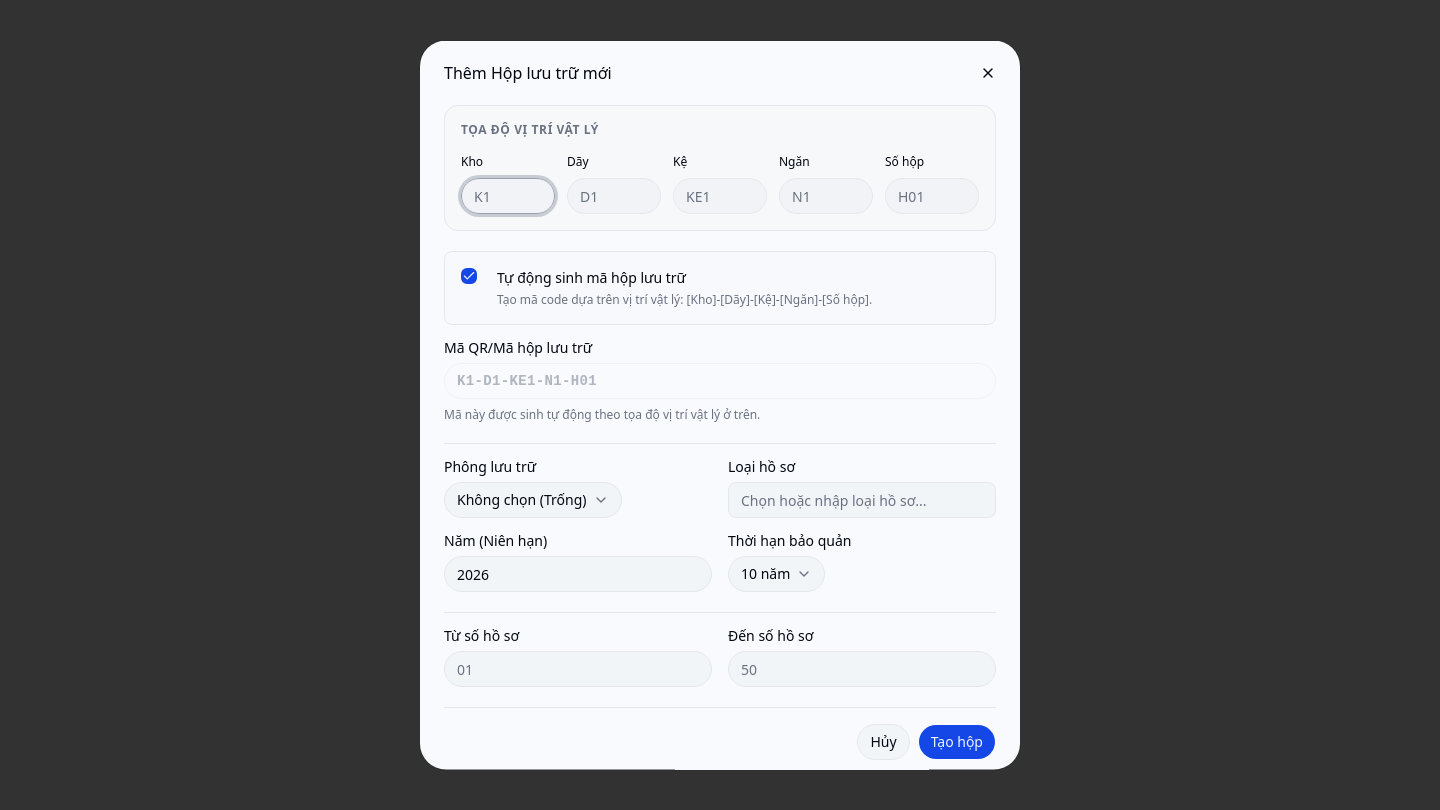
Scenario: StorageBoxDialog › renders AutocompleteInput for caseType field with merged suggestions
The width and height of the screenshot is (1440, 810).
Note: Focus input to open suggestions
Focus the field with placeholder "Chọn hoặc nhập loại hồ sơ...": (862, 500) [728,482,996,518]
(page scrolled)
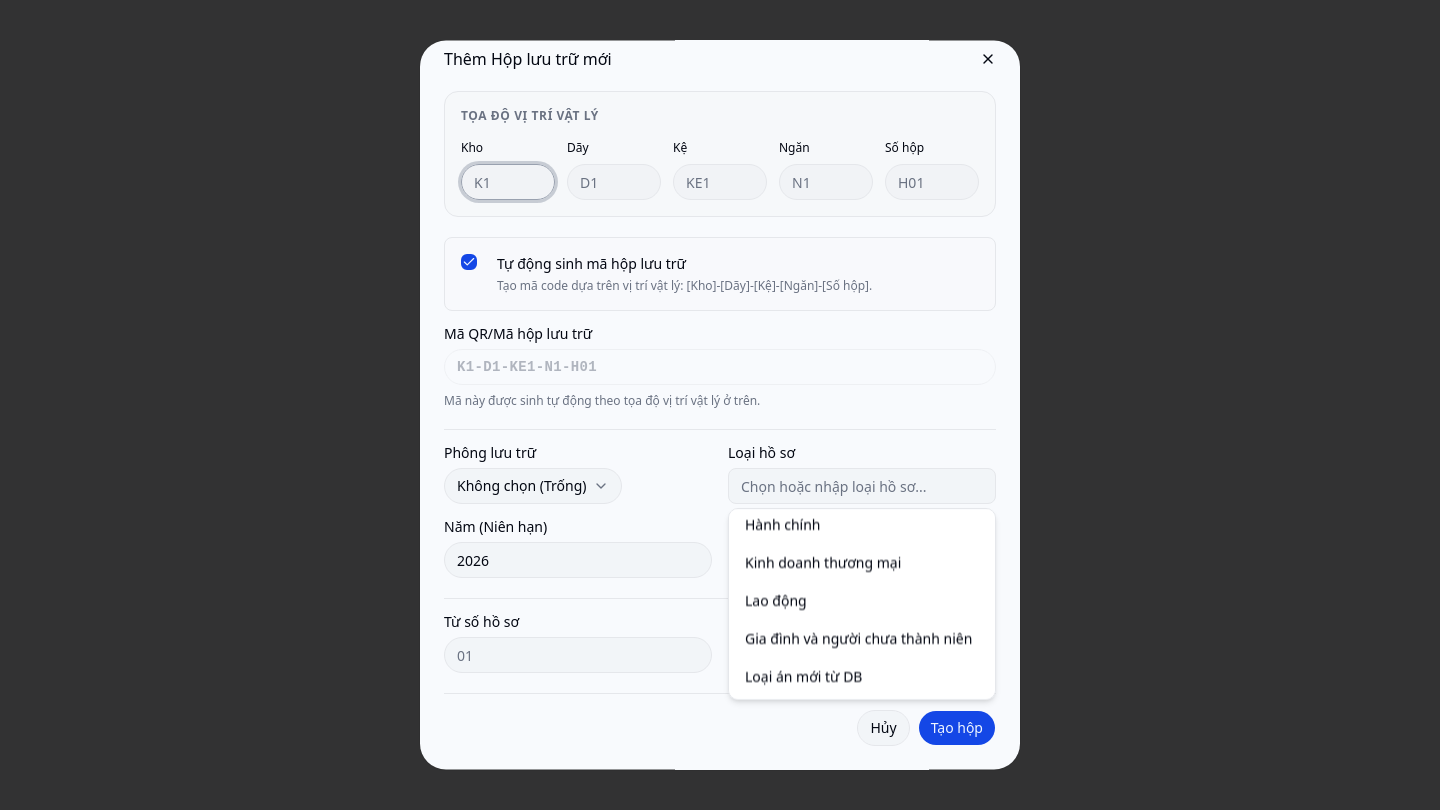
Expected: the list item "Loại án mới từ DB" is shown, [745,666,862,686]
